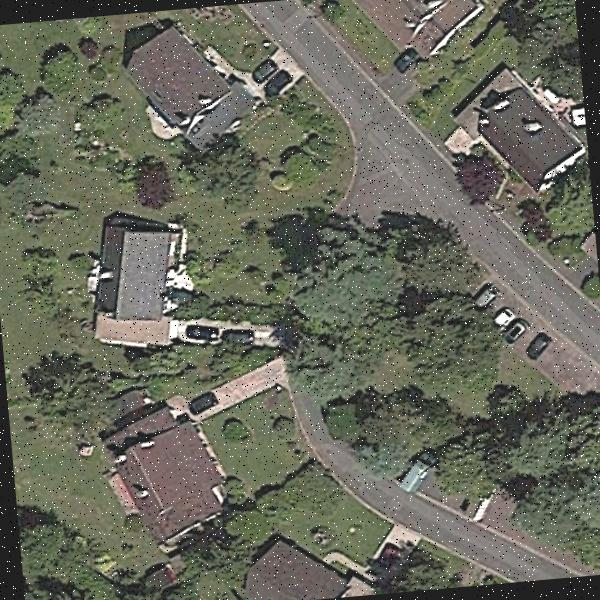Buildings: (106, 400, 226, 536), (121, 26, 244, 145), (97, 218, 177, 339), (480, 92, 575, 182), (355, 0, 471, 71), (248, 547, 345, 600)
